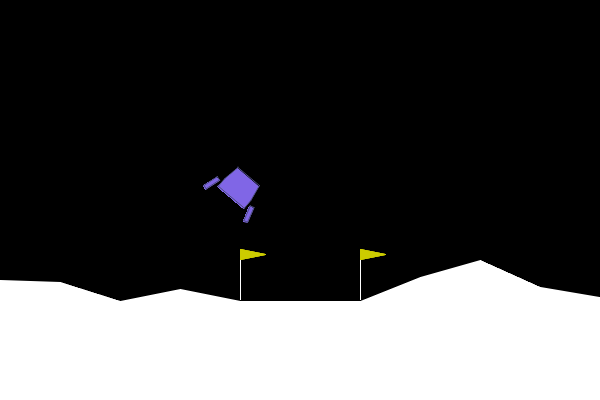lander: (201, 156, 273, 225)
